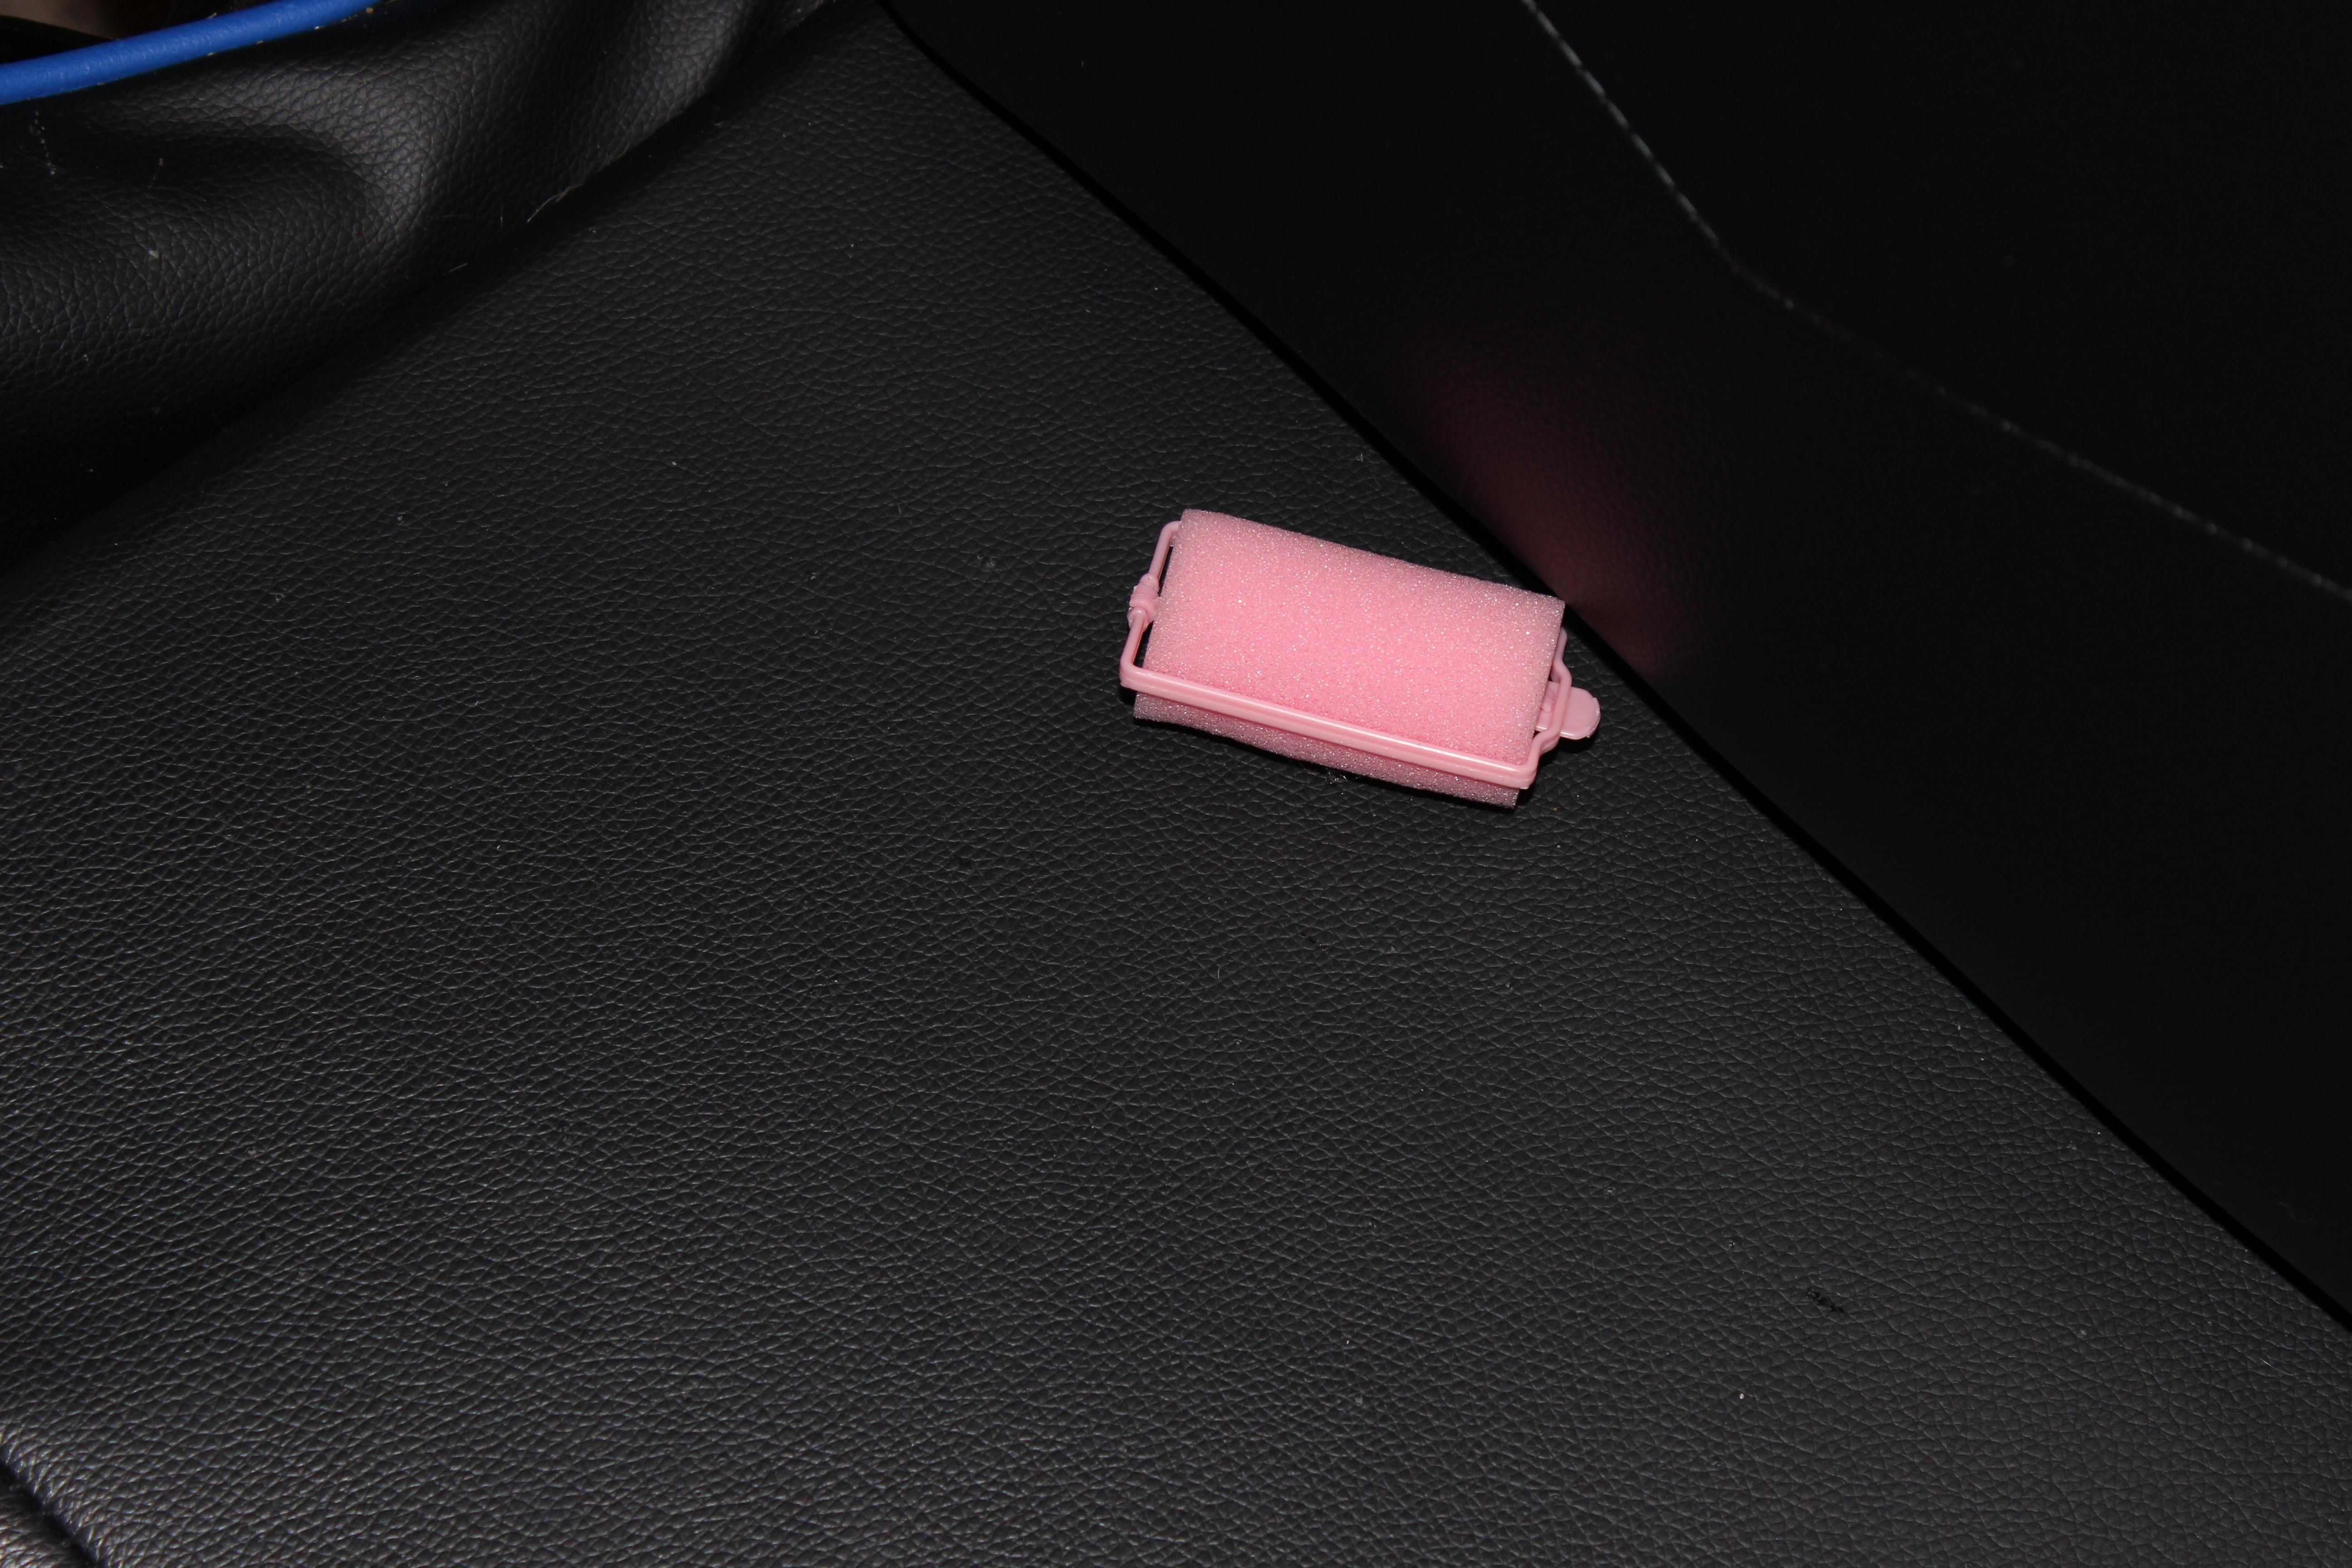hairRoller: (1097, 481, 1626, 838)
